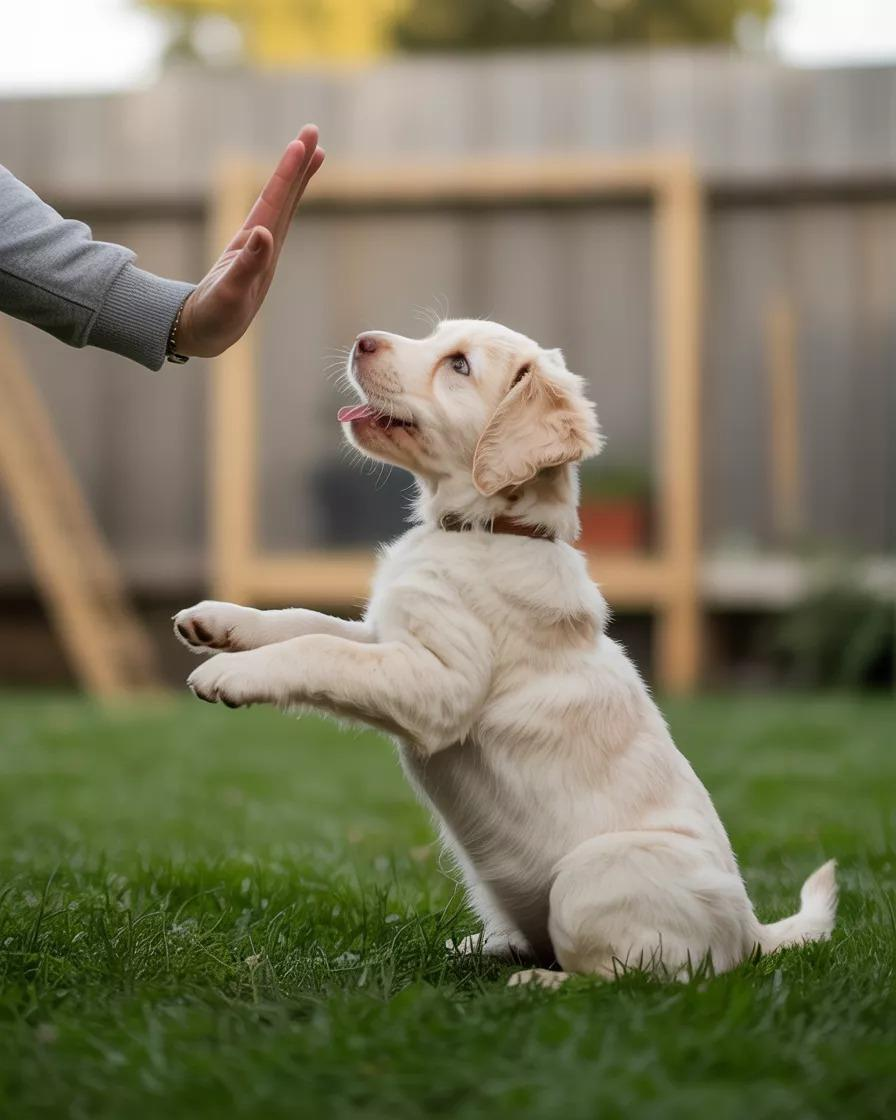non-dog: (1, 120, 327, 373)
puppy-dog: (169, 311, 847, 997)
